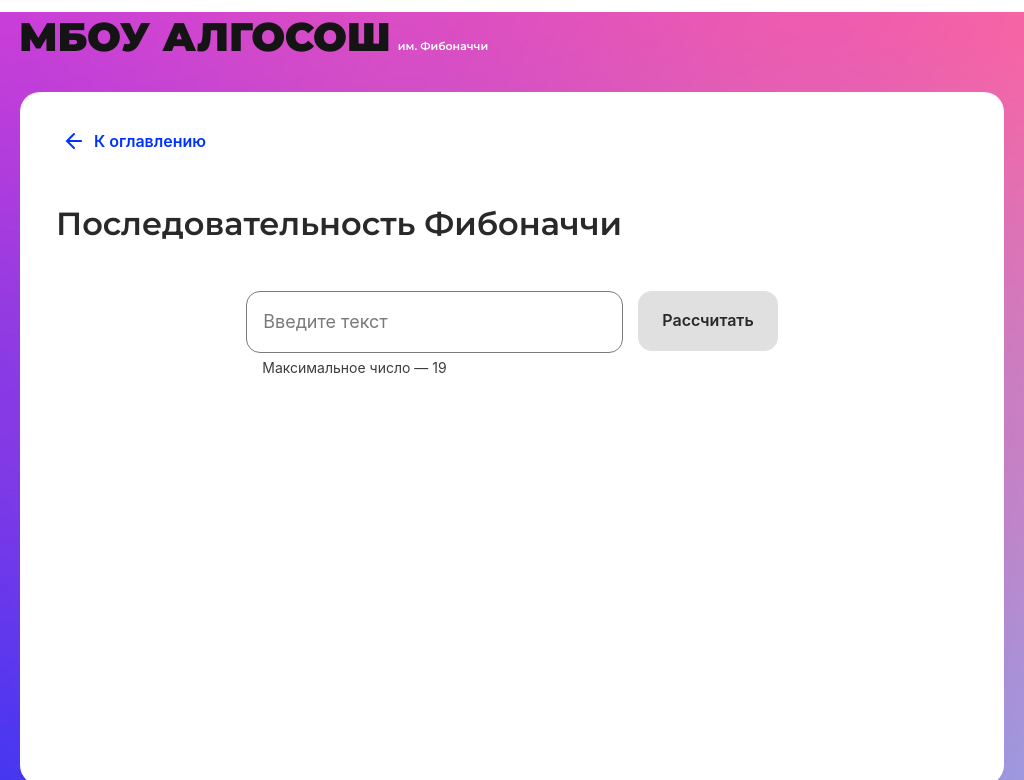
it: фибоначчи › проверка блокировки кнопки при пустом инпуте
Type "5" into the number field with test id "input-fib" at {"x": 435, "y": 322}, box left=246, top=291, right=623, bottom=353
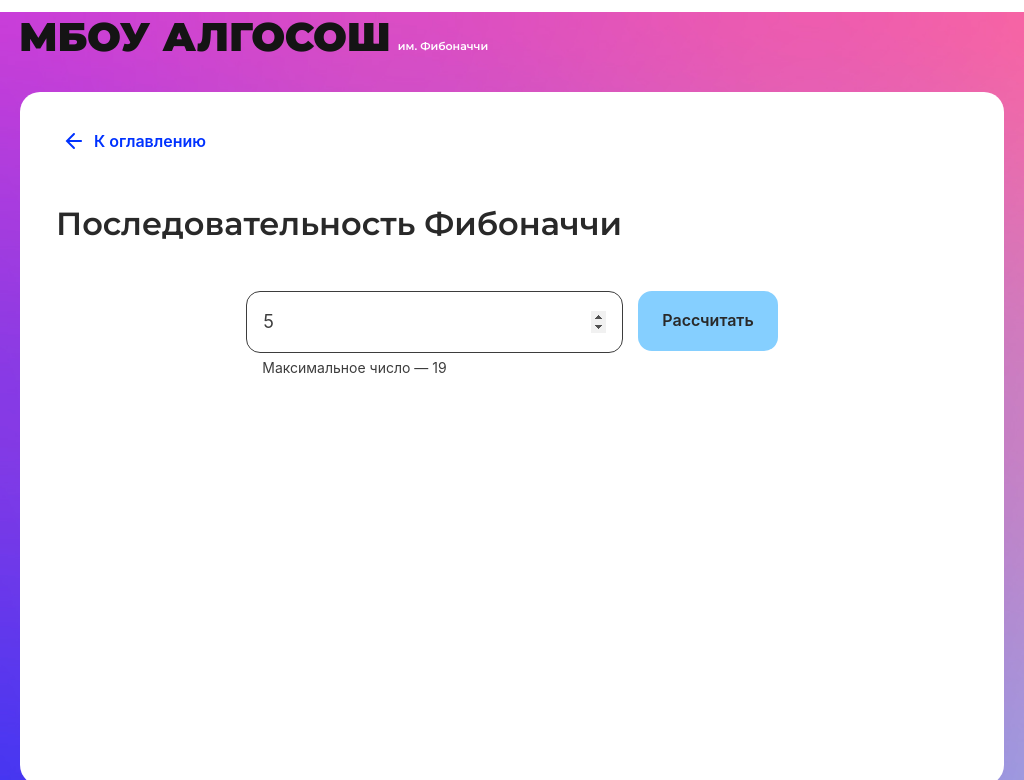
Clear the number field with test id "input-fib" at {"x": 435, "y": 322}, box left=246, top=291, right=623, bottom=353
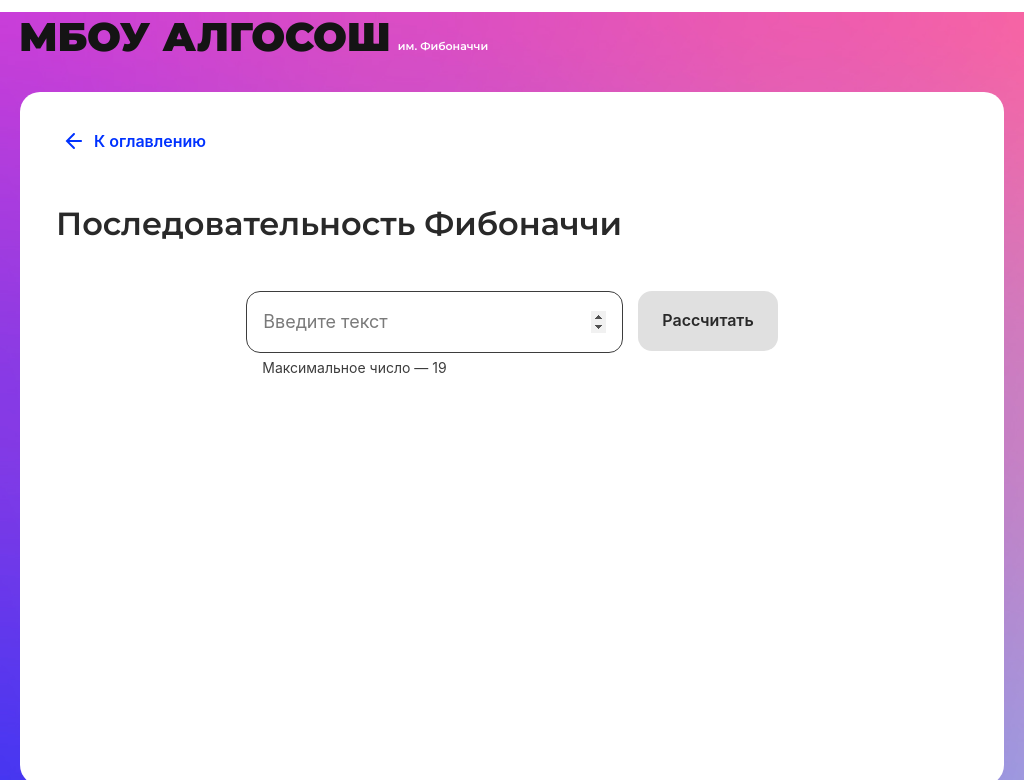
Result: the button with test id "button-fib" is disabled at left=638, top=291, right=777, bottom=351
